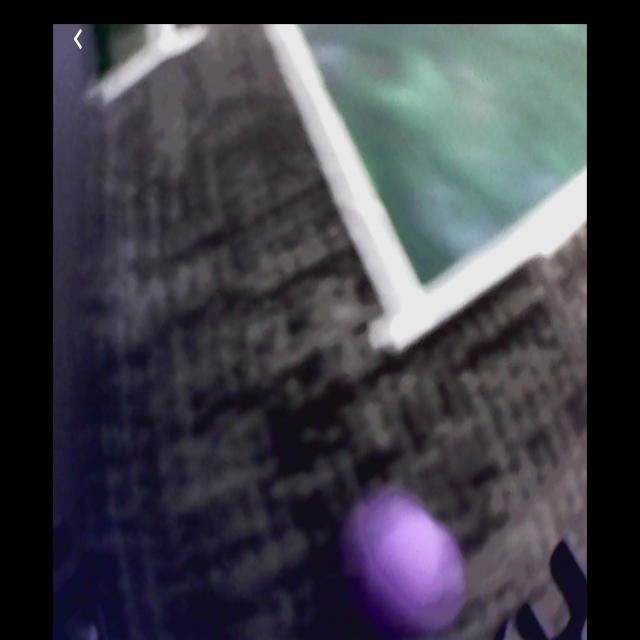ball: (366, 510, 450, 622)
